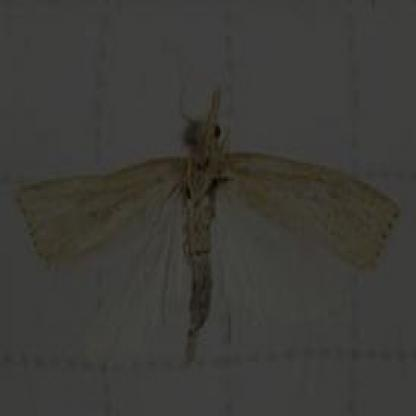stem-borer: (13, 85, 403, 353)
